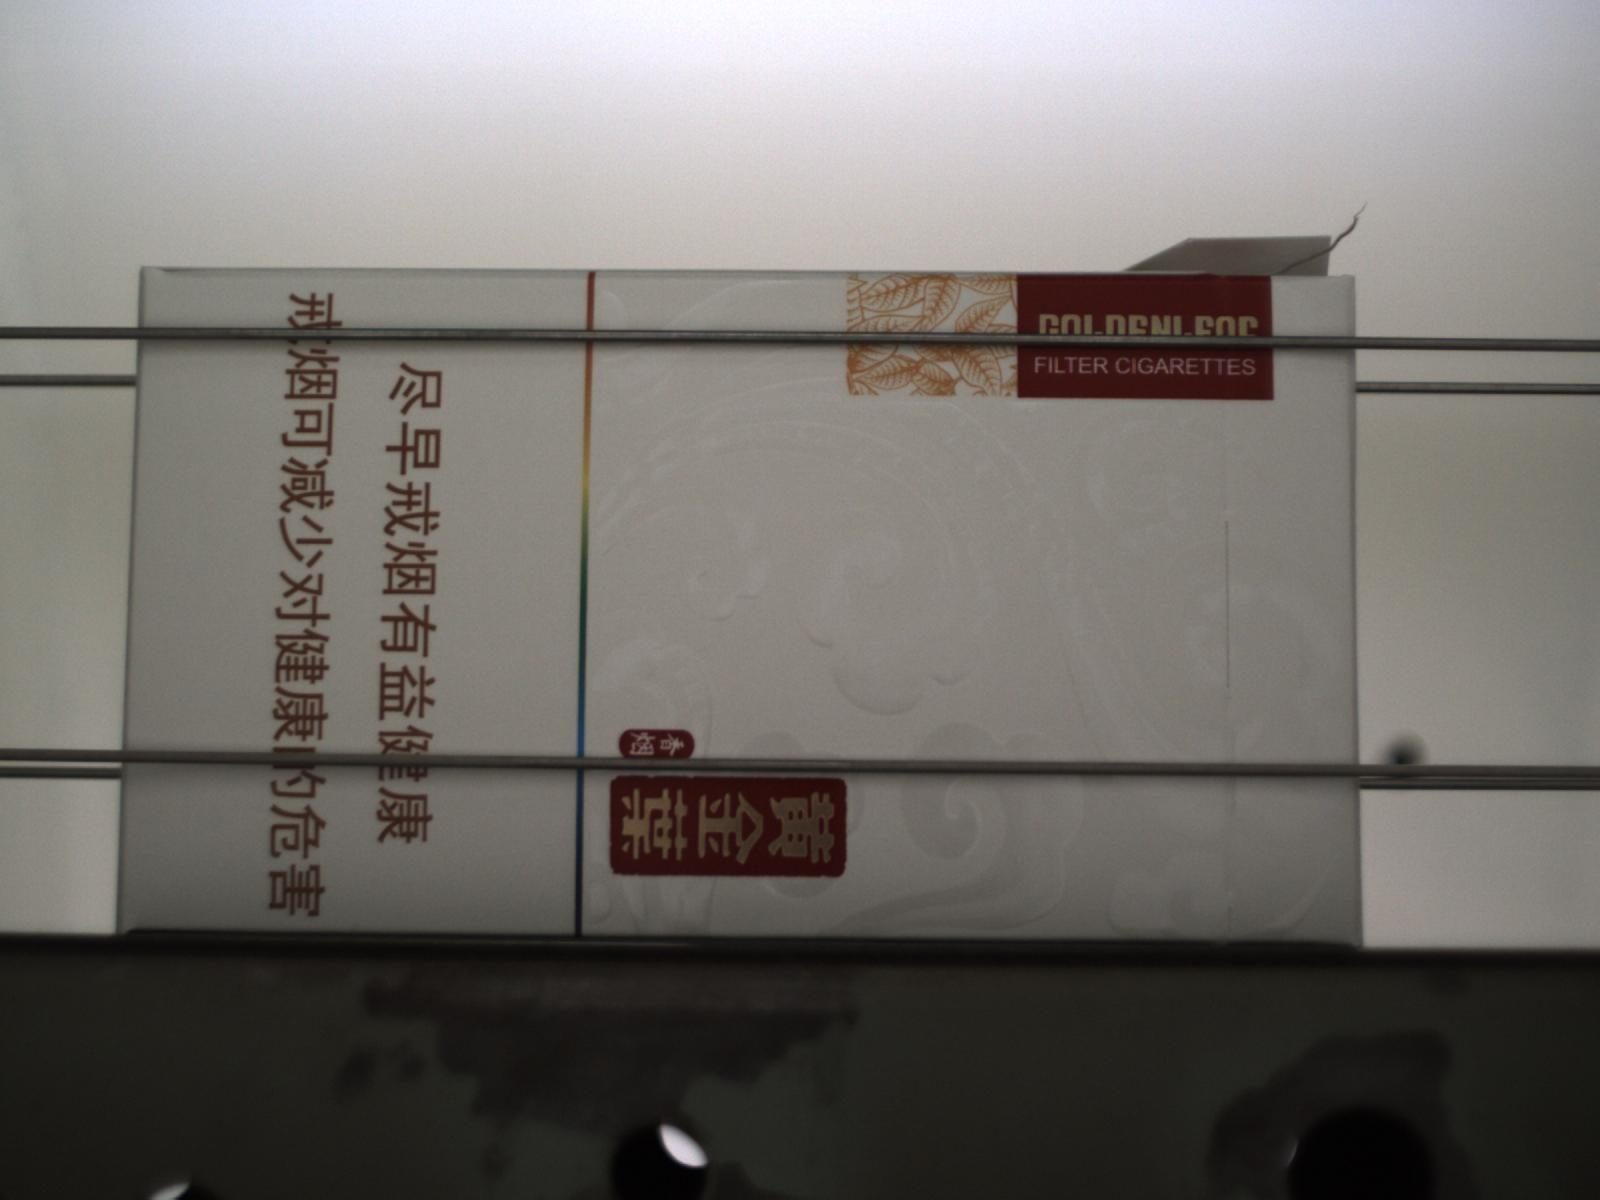headUpwarp_upper_01: (1117, 199, 1367, 274)
